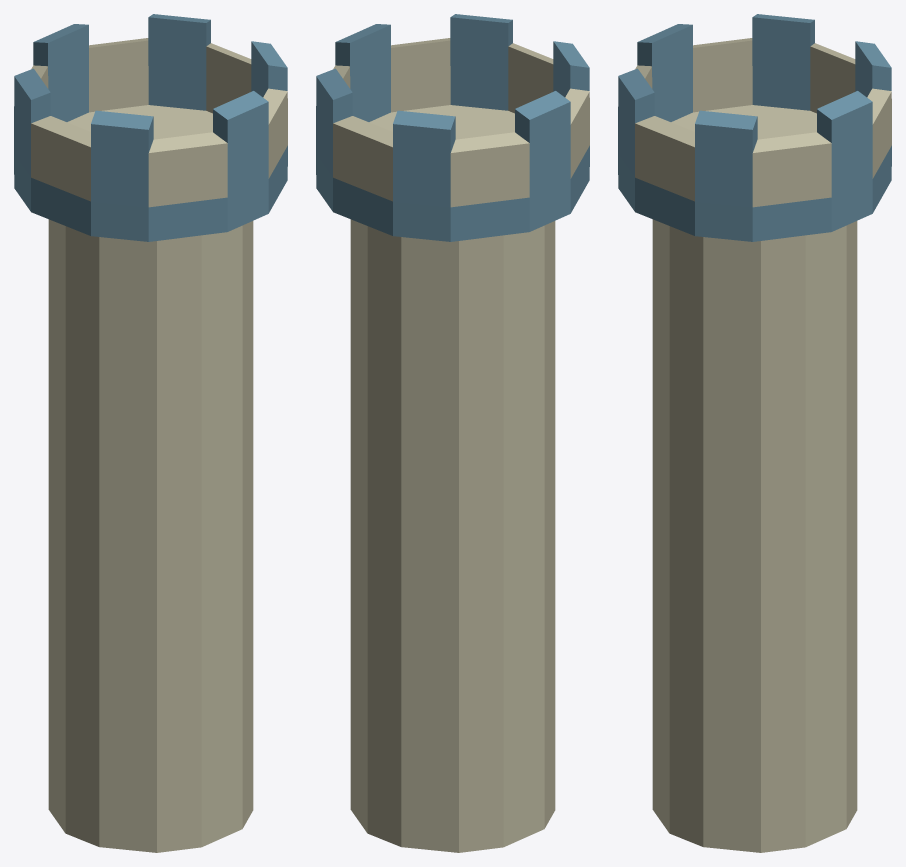
File: Wall1.fbx
3 renders of one model, left to right at view 1: azimuth 30°, elevation 25°; view 2: azimuth 150°, elevation 25°; view 3: azimuth 270°, elevation 25°, orthographic.
Visible parts, largest first — view 1: Wall1; view 2: Wall1; view 3: Wall1.
Boxes of the visible parts, x1=… form: Wall1: x1=14, y1=14, x2=287, y2=852; Wall1: x1=316, y1=14, x2=589, y2=852; Wall1: x1=618, y1=14, x2=891, y2=852.
Bounding box in the file's own units: 313 × 937 × 313.
